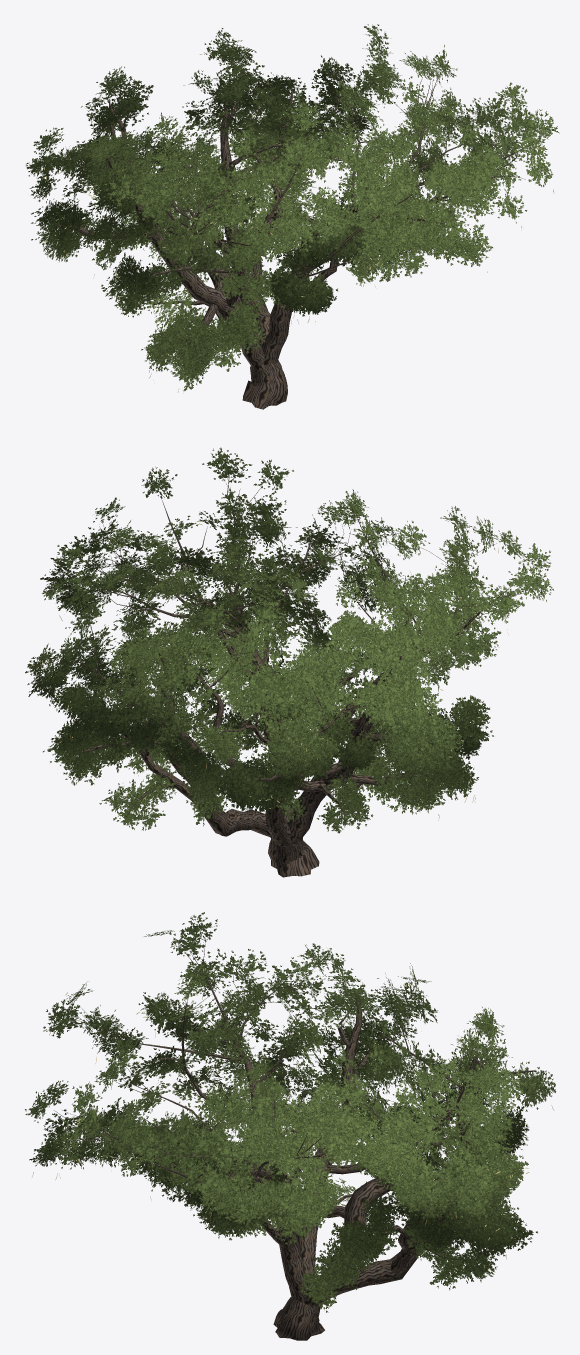
Rendered from old-c.lod0.glb.
3 views of the same model, one above another, from view 1: azimuth 30°, elevation 25°; view 2: azimuth 150°, elevation 25°; view 3: azimuth 270°, elevation 25° (orthographic). The views are drawn at different scales.
Visible parts, largest first — view 1: foliage, bark; view 2: foliage, bark; view 3: foliage, bark.
Boxes of the visible parts, x1,y1,x2,y2 form: foliage: [26, 24, 559, 390]; bark: [53, 53, 525, 409]; foliage: [25, 447, 553, 833]; bark: [51, 473, 535, 877]; foliage: [25, 912, 555, 1312]; bark: [54, 937, 535, 1340].
Bounding box in the file's own units: 13.68 × 9.5 × 13.05.
5 materials, 3 textured.
